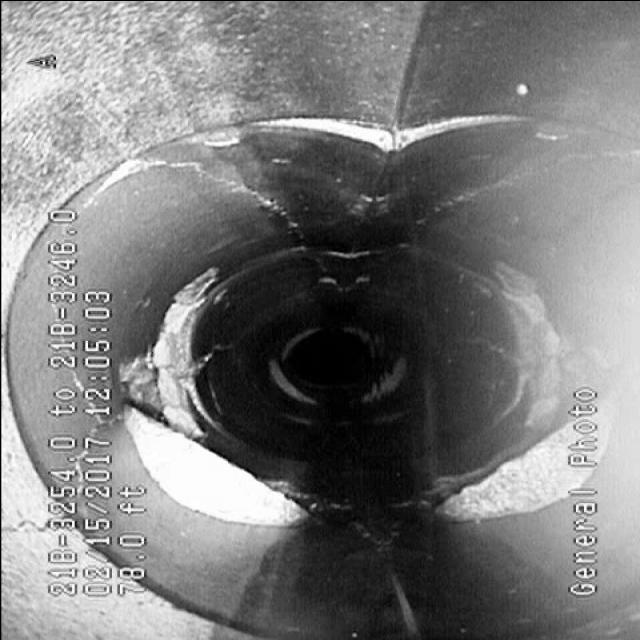Crack: (105, 150, 315, 232)
